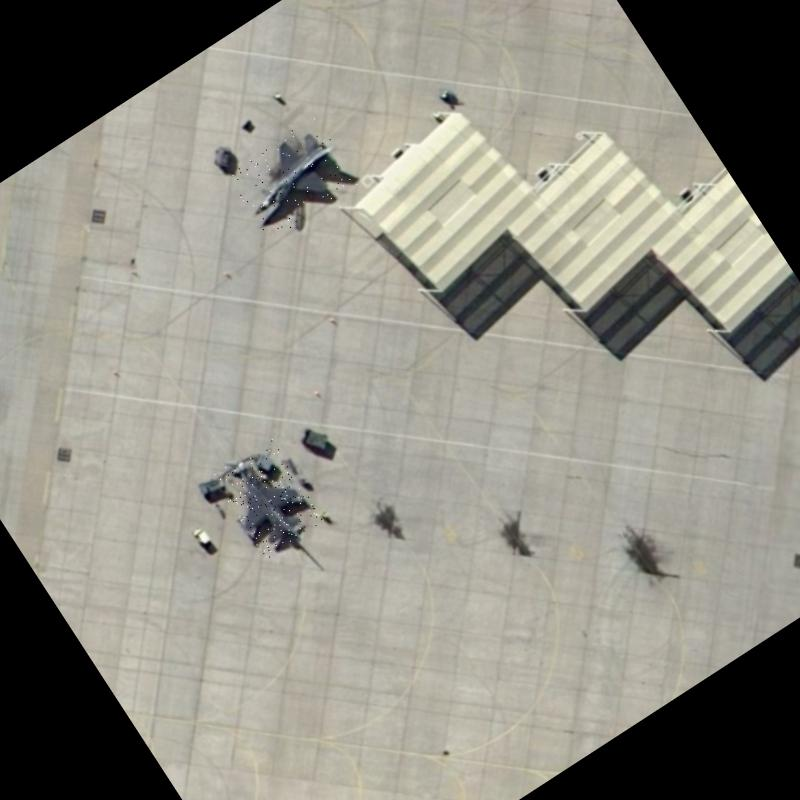A5: (225, 113, 361, 242), (212, 437, 326, 560)
